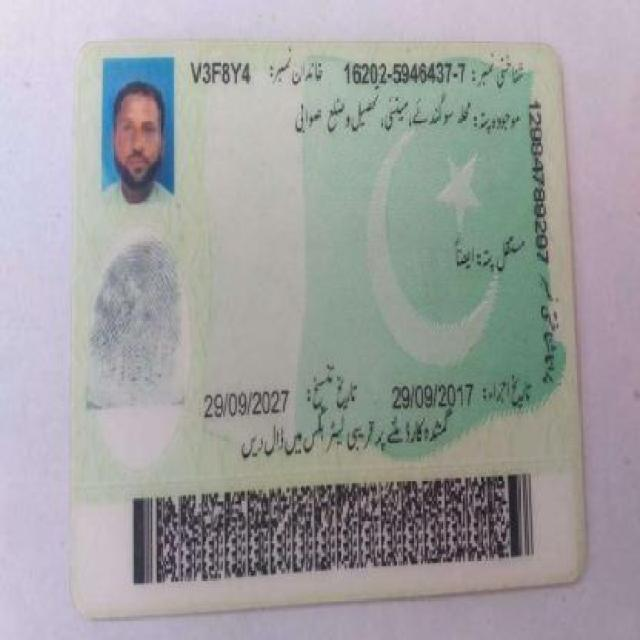Back: (68, 32, 590, 591)
